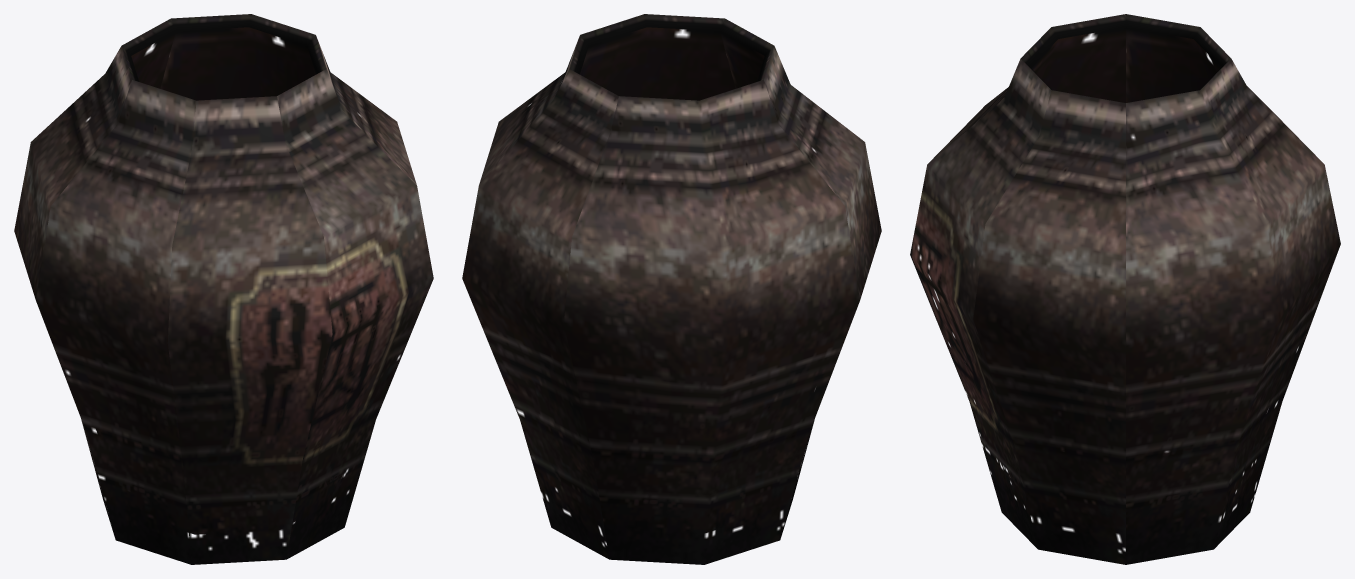
File: ep_general_obj_jar_red01.glb
The picture shows the model from 3 angles, left to right: view 1: azimuth 30°, elevation 25°; view 2: azimuth 150°, elevation 25°; view 3: azimuth 270°, elevation 25°; orthographic projection.
Visible parts, largest first — view 1: ep_general_obj_jar_red01; view 2: ep_general_obj_jar_red01; view 3: ep_general_obj_jar_red01.
Boxes of the visible parts, bbox=[...] form: ep_general_obj_jar_red01: bbox=[14, 14, 433, 564]; ep_general_obj_jar_red01: bbox=[462, 14, 881, 564]; ep_general_obj_jar_red01: bbox=[910, 14, 1340, 564].
Bounding box in the file's own units: 0.8414 × 0.976 × 0.8396.
Materials: 1 (1 with a texture image).
